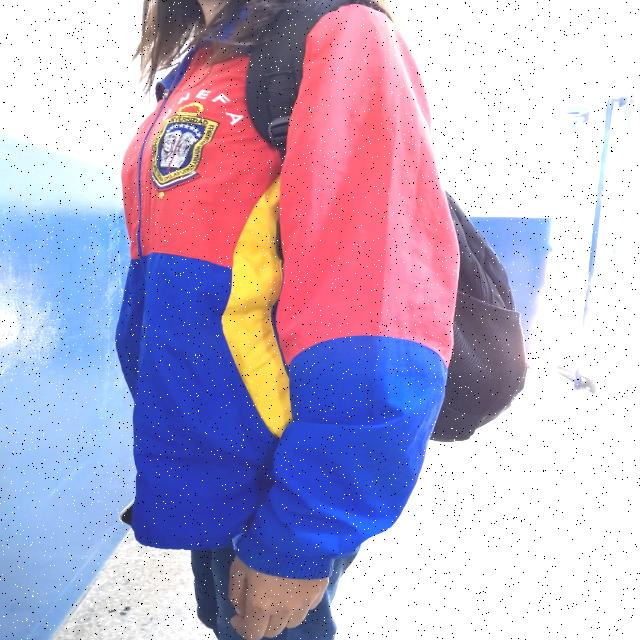chaqueta_unefa: (109, 0, 463, 584)
